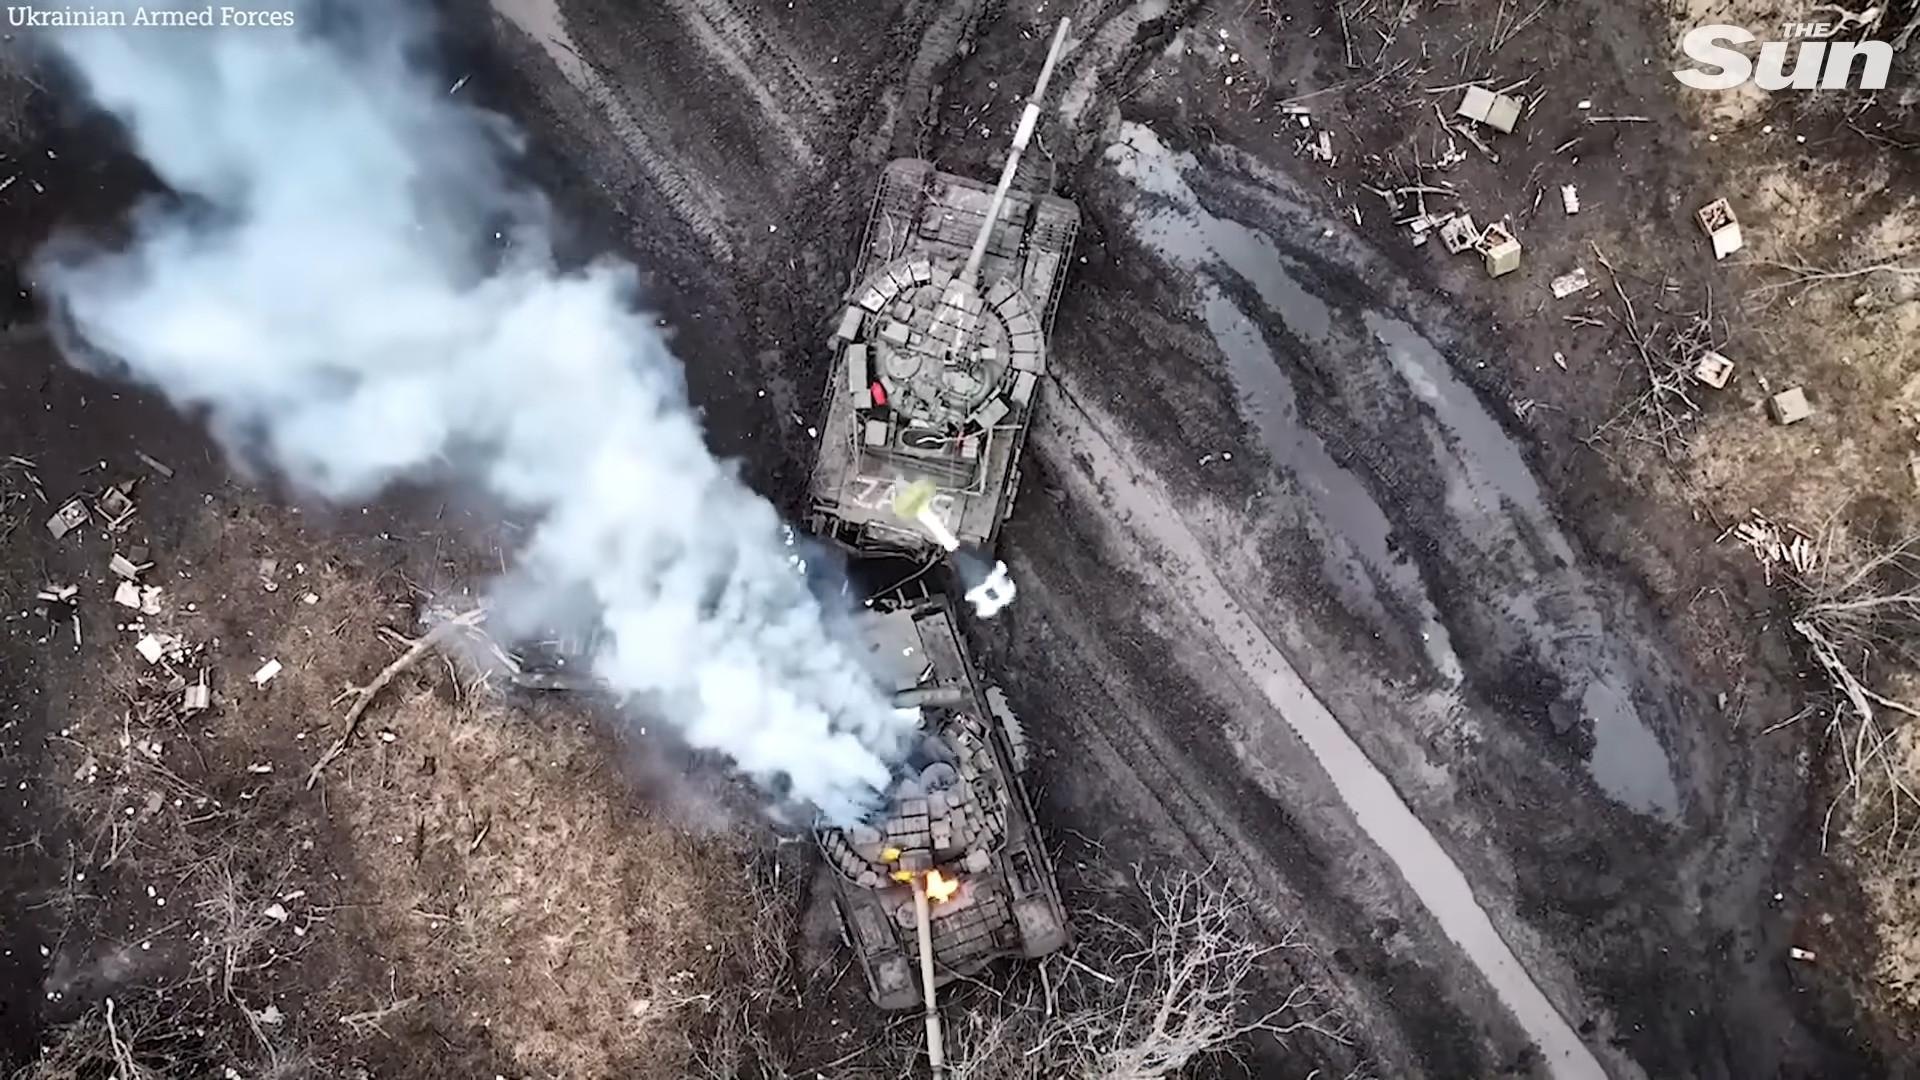tank: (796, 16, 1083, 560), (765, 595, 1076, 1076)
